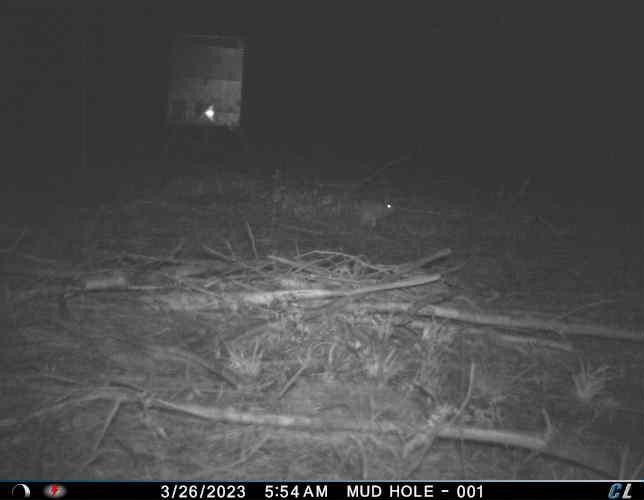Rabbit: (356, 190, 398, 229)
